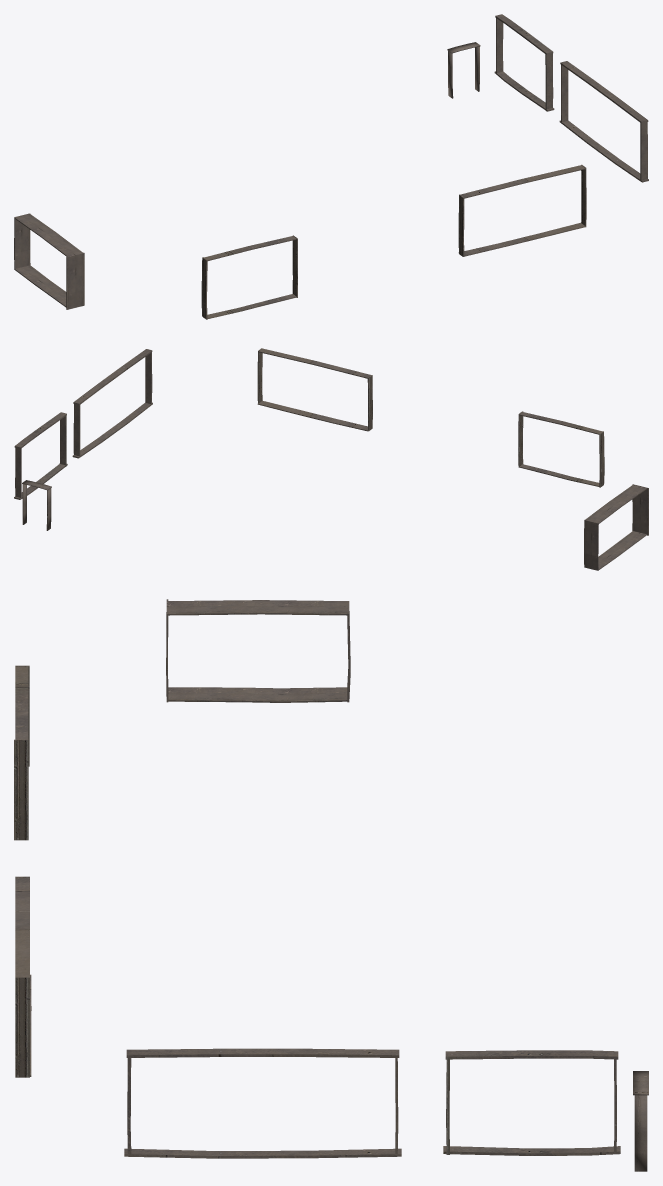
File: Corridor_01_20.fbx
The picture shows the model from 3 angles, top to bottom: view 1: azimuth 30°, elevation 25°; view 2: azimuth 150°, elevation 25°; view 3: azimuth 270°, elevation 25°; orthographic projection. The views are drawn at different scales.
Visible parts, largest first — view 1: Corridor_01_20; view 2: Corridor_01_20; view 3: Corridor_01_20.
Part boxes in pixels (x1,y1,x2,y2): Corridor_01_20: [14, 14, 648, 319]; Corridor_01_20: [14, 348, 648, 570]; Corridor_01_20: [14, 599, 648, 1171].
Size of the model in its own units: 3858 by 509 by 2214.
